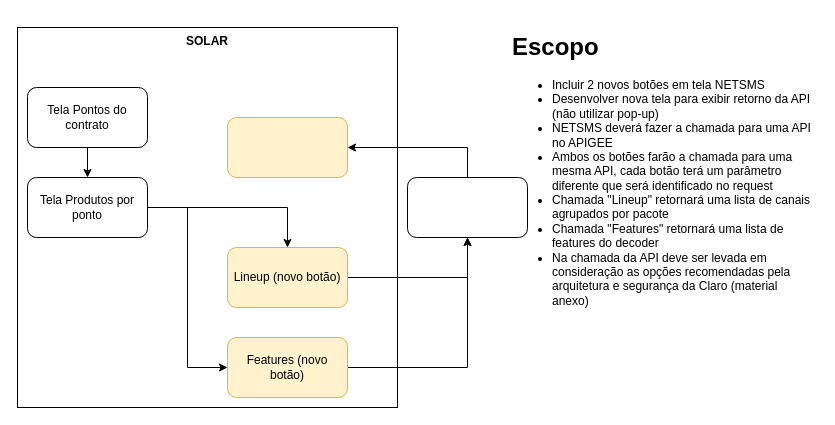
Image size: 835x425. Some labels were removed from this diagram. The centre of each missing label's shape, as x and y in pixels:
"API (APIGEE)" belongs at point (467, 207).
"Tela retorno Lineup/Features" belongs at point (287, 147).
